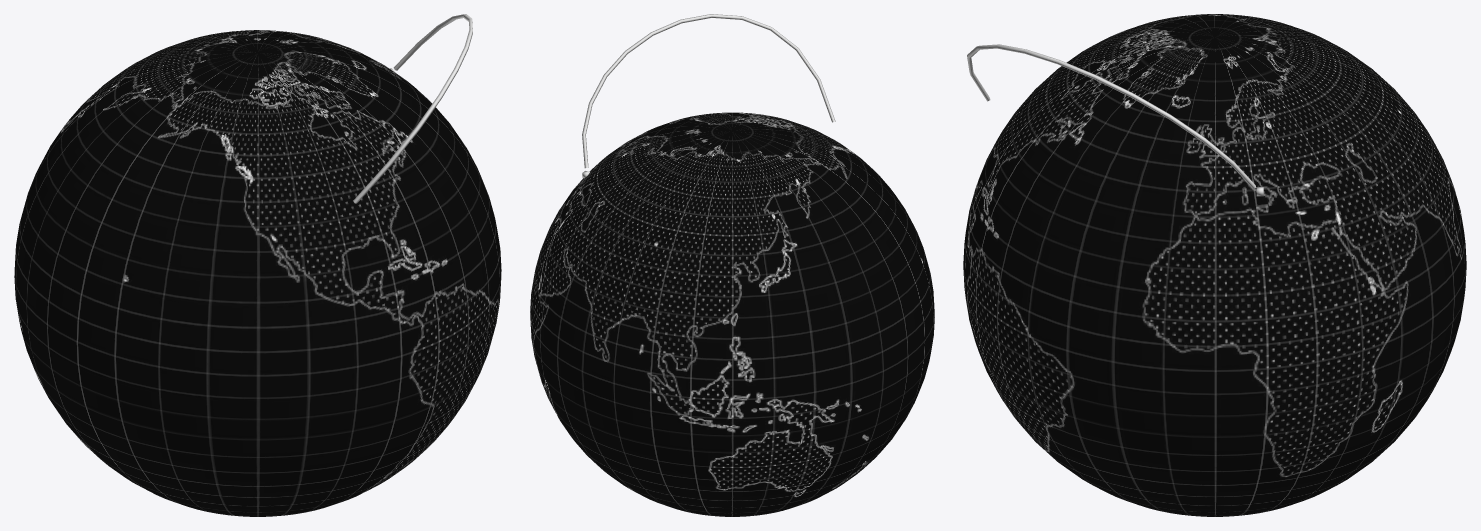
File: Globe.glb
The picture shows the model from 3 angles, left to right: view 1: azimuth 30°, elevation 25°; view 2: azimuth 150°, elevation 25°; view 3: azimuth 270°, elevation 25°; orthographic projection. The views are drawn at different scales.
Visible parts, largest first — view 1: Sphere, BézierCurve; view 2: Sphere, BézierCurve; view 3: Sphere, BézierCurve.
Boxes of the visible parts, left/top/right/bottom form: Sphere: left=14, top=30, right=501, bottom=516; BézierCurve: left=353, top=14, right=472, bottom=203; Sphere: left=530, top=112, right=934, bottom=516; BézierCurve: left=582, top=14, right=835, bottom=168; Sphere: left=963, top=14, right=1466, bottom=516; BézierCurve: left=967, top=44, right=1256, bottom=188.
Size of the model in its own units: 2 by 2.2 by 2.
1 material, 1 textured.
